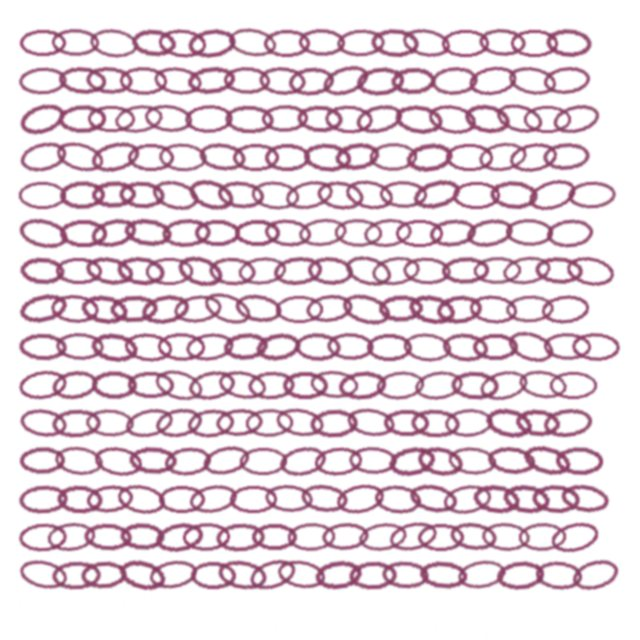chain: (200, 287, 254, 330), (525, 174, 580, 215), (319, 60, 373, 101), (504, 326, 558, 367), (246, 554, 300, 595), (16, 98, 69, 139), (185, 174, 238, 215), (53, 137, 107, 177), (339, 289, 393, 329), (152, 365, 206, 405), (174, 251, 227, 291), (88, 137, 142, 176), (410, 175, 463, 214), (520, 441, 573, 480), (16, 214, 70, 252), (477, 366, 531, 404), (493, 99, 545, 138), (342, 251, 394, 290), (116, 555, 168, 594), (569, 555, 621, 594), (353, 100, 406, 138), (550, 100, 603, 138), (149, 176, 202, 214), (283, 176, 336, 214), (123, 404, 176, 442), (548, 518, 601, 556), (88, 214, 140, 252), (343, 176, 396, 213), (334, 480, 387, 517), (17, 138, 69, 175), (17, 290, 69, 327), (200, 442, 252, 479), (407, 480, 459, 517), (387, 518, 439, 555), (17, 556, 69, 593), (506, 63, 559, 99), (507, 139, 560, 175), (564, 253, 617, 289), (115, 481, 168, 517), (187, 481, 240, 517), (441, 481, 494, 517), (483, 404, 534, 441), (400, 25, 452, 61), (426, 101, 478, 137), (464, 215, 516, 251), (83, 253, 135, 289), (139, 291, 191, 327), (216, 367, 268, 403), (92, 443, 144, 479), (153, 519, 205, 555), (147, 557, 200, 592), (275, 557, 328, 592), (406, 291, 457, 327), (186, 367, 237, 403), (277, 443, 328, 479), (386, 443, 437, 479), (415, 443, 466, 479), (226, 25, 278, 60), (370, 253, 422, 288), (17, 367, 69, 402), (274, 405, 326, 440), (345, 405, 397, 440), (216, 557, 268, 592), (467, 63, 518, 98), (462, 101, 513, 136), (477, 139, 528, 174), (501, 253, 552, 288), (233, 291, 284, 326), (517, 367, 568, 402), (153, 405, 204, 440), (559, 481, 610, 516), (456, 557, 507, 592), (88, 26, 140, 60), (172, 292, 224, 326), (184, 330, 236, 364), (413, 368, 465, 402), (50, 367, 100, 402), (186, 26, 237, 60), (152, 64, 203, 98), (113, 102, 164, 136), (393, 102, 444, 136), (197, 140, 248, 174), (357, 520, 408, 554), (362, 216, 414, 249), (53, 444, 105, 477), (404, 140, 454, 174), (315, 178, 365, 212), (79, 292, 129, 326), (89, 330, 139, 364), (18, 406, 68, 440), (143, 102, 194, 135), (122, 216, 173, 249), (297, 216, 348, 249), (115, 254, 166, 287), (272, 254, 323, 287), (542, 406, 593, 439), (299, 482, 350, 515), (448, 520, 499, 553), (254, 330, 303, 364), (186, 64, 236, 97), (304, 292, 354, 325), (486, 444, 536, 477), (471, 482, 521, 515), (501, 482, 551, 515), (46, 520, 96, 553), (313, 558, 363, 591), (375, 369, 426, 401), (313, 445, 364, 477), (542, 64, 591, 97), (333, 140, 382, 173), (157, 27, 207, 59), (355, 65, 405, 97), (302, 141, 352, 173), (216, 179, 266, 211), (250, 179, 300, 211), (428, 217, 478, 249), (237, 255, 287, 287), (468, 293, 518, 325), (540, 293, 590, 325), (123, 331, 173, 363), (402, 331, 452, 363), (337, 369, 387, 401), (163, 445, 213, 477), (447, 445, 497, 477), (418, 559, 468, 591), (495, 559, 545, 591), (287, 65, 336, 97), (263, 217, 312, 249), (545, 217, 594, 249), (435, 293, 484, 325), (441, 331, 490, 363), (186, 407, 235, 439), (85, 483, 134, 515), (373, 483, 422, 515), (534, 559, 583, 591), (57, 65, 107, 96), (161, 217, 211, 248), (50, 293, 100, 324), (309, 369, 359, 400), (130, 27, 178, 59), (514, 407, 562, 439), (370, 27, 419, 58), (478, 27, 527, 58), (85, 65, 134, 96), (542, 141, 591, 172), (489, 179, 538, 210), (306, 255, 355, 286), (534, 255, 583, 286), (215, 407, 264, 438), (444, 407, 493, 438), (264, 483, 313, 514), (531, 483, 580, 514), (481, 521, 530, 552), (336, 28, 386, 58), (18, 66, 68, 96), (224, 104, 274, 134), (158, 142, 208, 172), (567, 180, 617, 210), (402, 256, 452, 286), (51, 408, 101, 438), (410, 408, 460, 438), (18, 484, 68, 514), (18, 522, 68, 552), (215, 522, 265, 552), (51, 560, 101, 590), (545, 27, 593, 58), (258, 65, 306, 96), (430, 65, 478, 96), (222, 331, 270, 362), (321, 521, 369, 552), (324, 104, 373, 134), (109, 294, 158, 324), (505, 294, 554, 324), (18, 332, 67, 362), (247, 370, 296, 400), (450, 370, 499, 400), (85, 408, 134, 438), (309, 408, 358, 438), (83, 522, 132, 552), (348, 560, 397, 590), (381, 560, 430, 590), (184, 104, 234, 133), (55, 332, 105, 361), (296, 104, 344, 134), (118, 180, 166, 210), (208, 256, 256, 286), (56, 484, 104, 514), (80, 560, 128, 590), (51, 28, 100, 57), (119, 66, 168, 95), (505, 218, 554, 247), (157, 332, 206, 361), (543, 332, 592, 361), (571, 332, 620, 361), (245, 408, 294, 437), (128, 446, 177, 475), (348, 446, 397, 475), (182, 522, 231, 551), (287, 522, 336, 551), (518, 522, 567, 551), (390, 66, 437, 96), (19, 256, 66, 286), (298, 28, 346, 57), (223, 66, 271, 95), (58, 104, 106, 133), (369, 142, 417, 171), (379, 180, 427, 209), (334, 218, 382, 247), (441, 256, 489, 285), (473, 256, 521, 285), (294, 332, 342, 361), (326, 332, 374, 361), (555, 446, 603, 475), (441, 29, 490, 57), (510, 29, 559, 57), (18, 181, 67, 209), (145, 257, 194, 285), (229, 485, 278, 513), (261, 104, 308, 133), (59, 180, 106, 209), (91, 370, 138, 399), (19, 446, 66, 475), (119, 522, 166, 551), (87, 105, 135, 133), (523, 105, 571, 133), (445, 143, 493, 171), (452, 181, 500, 209), (59, 219, 107, 247), (395, 219, 443, 247), (55, 257, 103, 285), (275, 295, 323, 323), (127, 371, 175, 399), (549, 371, 597, 399), (239, 447, 287, 475), (417, 523, 465, 551), (91, 180, 137, 209), (378, 294, 424, 323), (19, 29, 66, 57), (263, 29, 310, 57), (127, 143, 174, 171), (232, 143, 279, 171), (264, 143, 311, 171), (194, 219, 241, 247), (234, 219, 281, 247), (366, 333, 413, 361), (472, 333, 519, 361), (282, 371, 329, 399), (383, 409, 430, 437), (158, 485, 205, 513), (251, 523, 298, 551), (190, 561, 237, 589)
